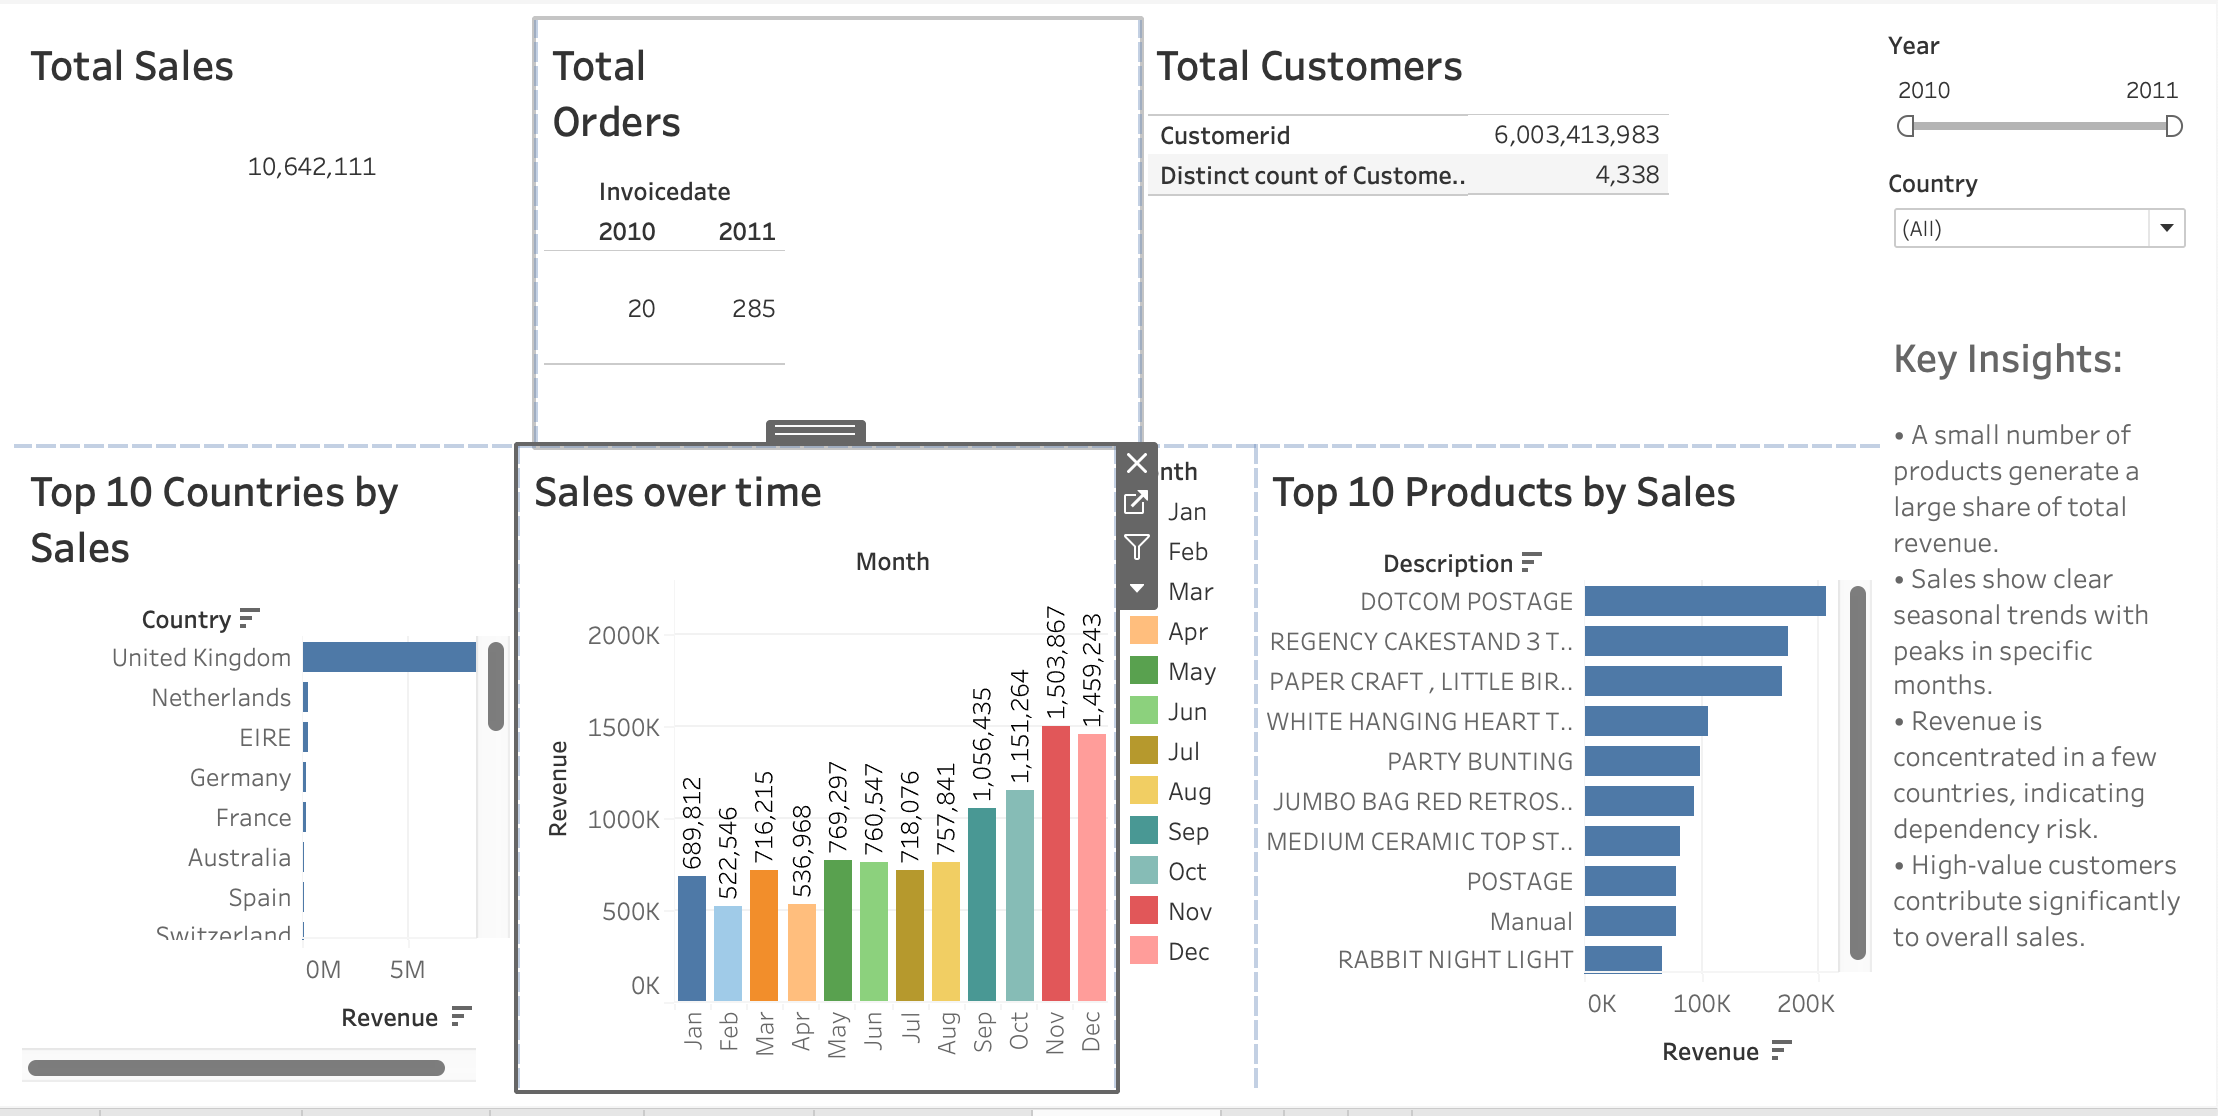

The dashboard page shown, as its layout file describes it:
{"tool":"tableau","page":{"name":"Dashboard","canvas":[1000,1000],"units":"permille","ordinal":0},"visuals":[{"type":"worksheet","title":"Total Sales","mark":"Automatic","box":[7.2,14.5,235.5,386.6]},{"type":"worksheet","title":"Total Orders","mark":"Automatic","cols":["invoicedate"],"box":[242.8,14.5,272.5,386.6]},{"type":"worksheet","title":"Total Customers","mark":"Automatic","box":[515.2,14.5,333.3,386.6]},{"type":"filter","title":"Sales over time","param":"[federated.1joxt821nmx8i91000fv21svt1ey].[none:year:qk]","box":[848.5,14.5,144.3,125.2]},{"type":"filter","title":"Sales over time","param":"[federated.1joxt821nmx8i91000fv21svt1ey].[none:country:nk]","box":[848.5,139.8,144.3,94.4]},{"type":"text","box":[848.5,234.1,144.3,693.3]},{"type":"worksheet","title":"Country Sales","mark":"Automatic","rows":["country"],"cols":["revenue"],"box":[7.2,401.1,227.1,584.4]},{"type":"worksheet","title":"Sales over time","mark":"Automatic","rows":["revenue"],"cols":["month"],"box":[234.3,401.1,270.2,584.4]},{"type":"legend","title":"Sales over time","param":"[federated.1joxt821nmx8i91000fv21svt1ey].[none:month:nk]","box":[504.4,401.1,62.3,584.4]},{"type":"worksheet","title":"Top Products","mark":"Automatic","rows":["description"],"cols":["revenue"],"box":[566.8,401.1,281.8,584.4]}]}

Visuals, with their boxes on the dashboard's canvas, which has no fixed pixel size, in thousandths of its width and height (x1, y1, x2, y2). These are canvas units, not pixel positions in the 2218x1116 screenshot, which may show the page scaled, cropped or inside an application window:
"Total Sales" worksheet: (left=7, top=14, right=243, bottom=401)
"Total Orders" worksheet: (left=243, top=14, right=515, bottom=401)
"Total Customers" worksheet: (left=515, top=14, right=848, bottom=401)
"Sales over time" filter: (left=848, top=14, right=993, bottom=140)
"Sales over time" filter: (left=848, top=140, right=993, bottom=234)
text: (left=848, top=234, right=993, bottom=927)
"Country Sales" worksheet: (left=7, top=401, right=234, bottom=986)
"Sales over time" worksheet: (left=234, top=401, right=504, bottom=986)
"Sales over time" legend: (left=504, top=401, right=567, bottom=986)
"Top Products" worksheet: (left=567, top=401, right=849, bottom=986)
